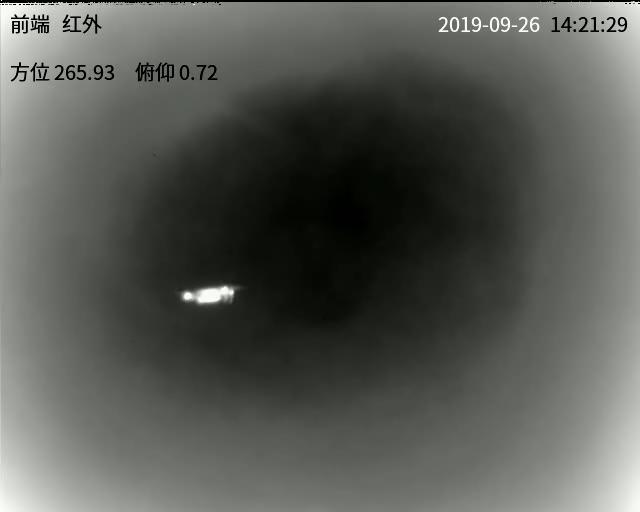uav: (179, 282, 249, 309)
